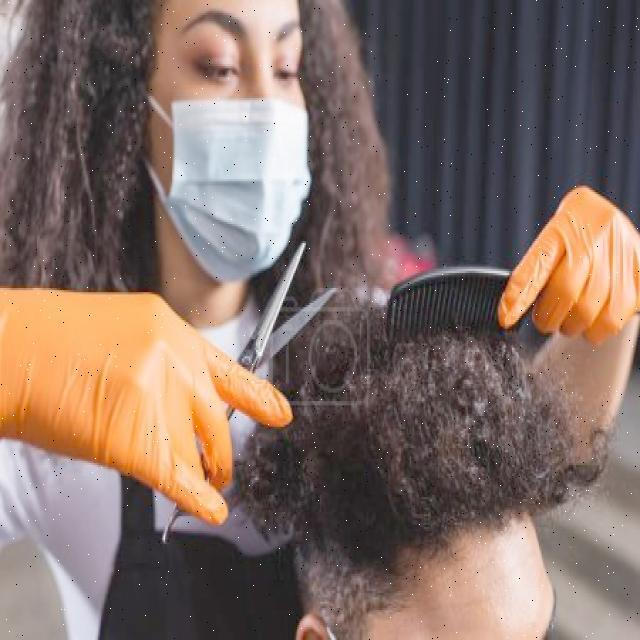scissors: (149, 238, 339, 552)
